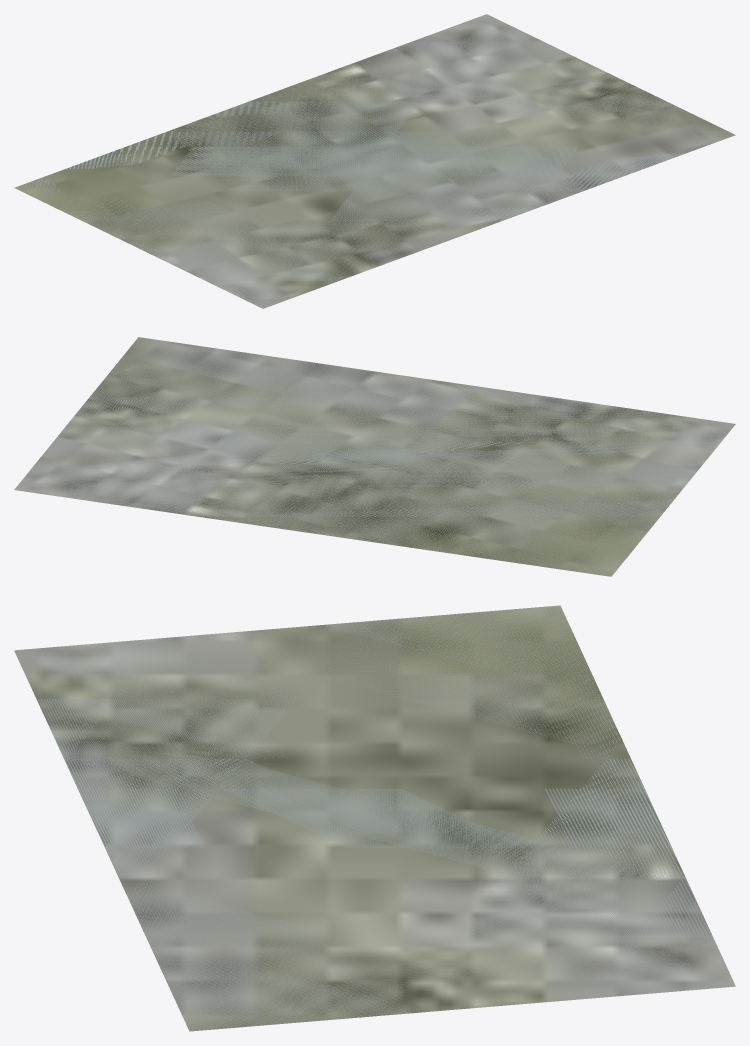
File: 西庸城堡5.dae
3 renders of one model, top to bottom at view 1: azimuth 30°, elevation 25°; view 2: azimuth 150°, elevation 25°; view 3: azimuth 270°, elevation 25°, orthographic. The views are drawn at different scales.
Parts seen in each view (by area): view 1: SketchUp; view 2: SketchUp; view 3: SketchUp.
Part boxes in pixels (x1,y1,x2,y2): SketchUp: [14, 14, 735, 308]; SketchUp: [14, 337, 735, 576]; SketchUp: [14, 605, 735, 1031].
Bounding box in the file's own units: 284 × 203 × 0.
